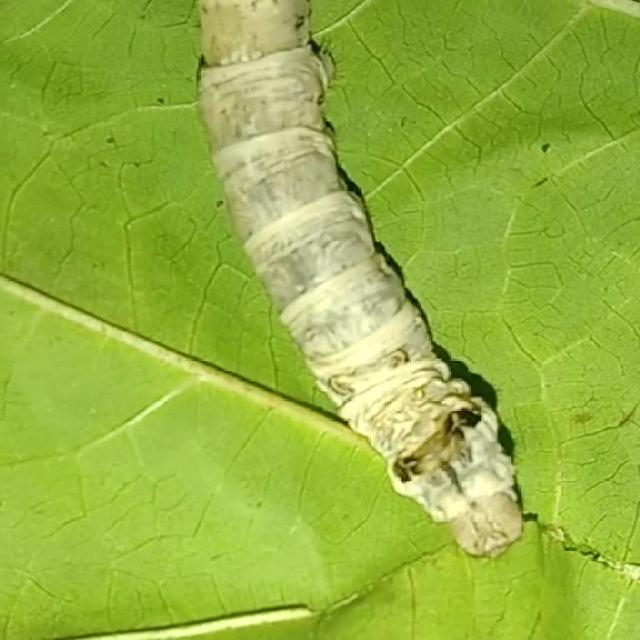Grasserie: (152, 0, 592, 586)
